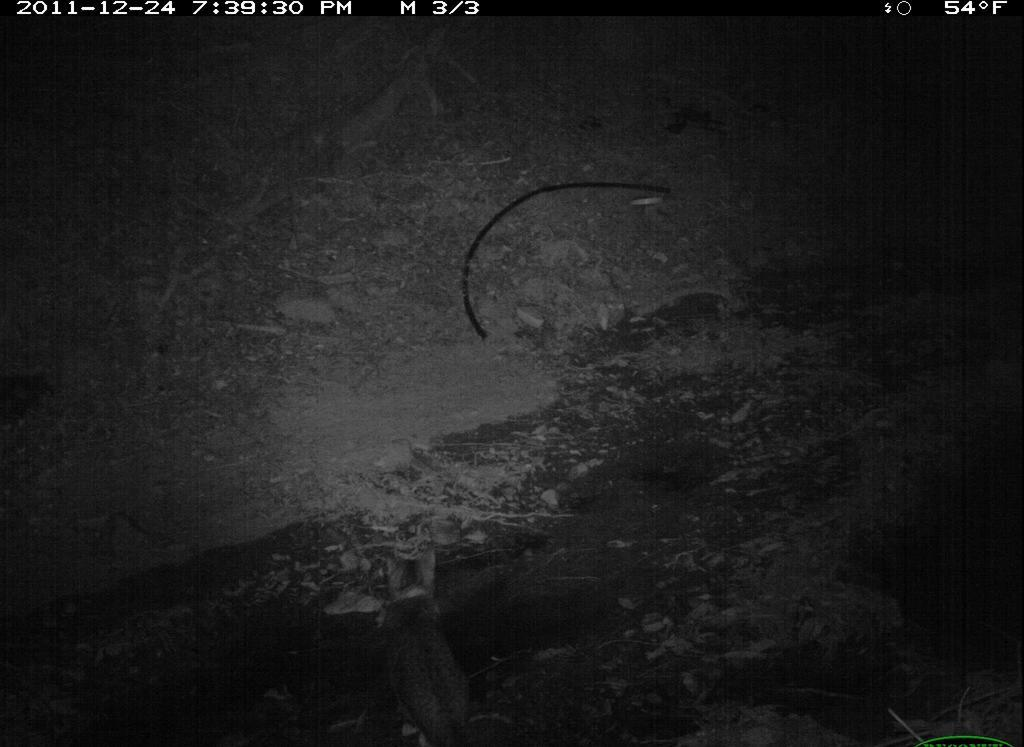cat: (365, 547, 478, 747)
